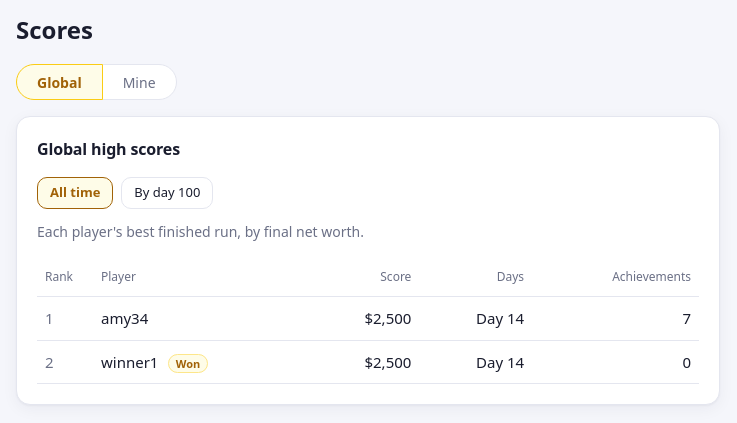
Test: ScoresComponent day 100 board › toggles to the day 100 board, marked by aria-pressed, and asks for it
Click the button with class "board-100": (167, 193) [121, 177, 213, 209]
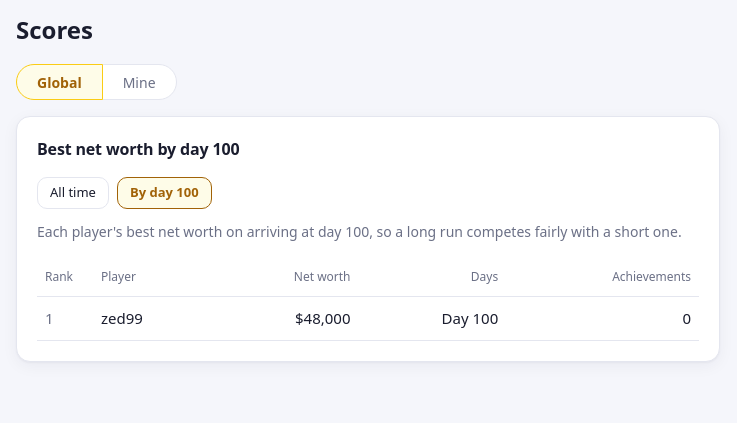
Result: the text "Best net worth by day 100" is shown at [37, 137, 239, 161]
Result: the text "zed99" is shown at [93, 297, 211, 340]
Result: the text "$48,000" is shown at [211, 297, 359, 340]
